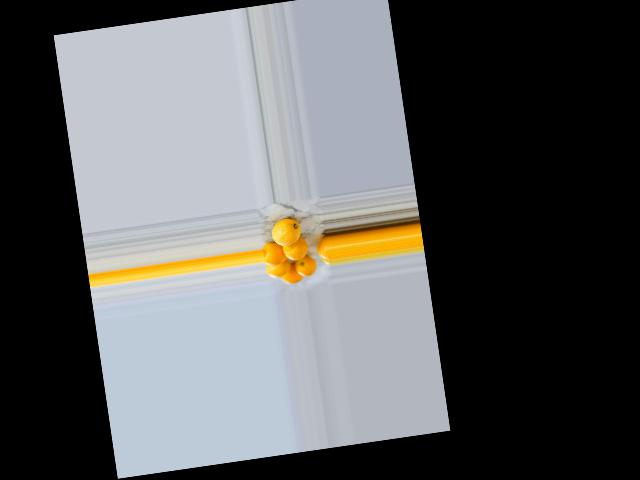lemon: (266, 216, 307, 249)
